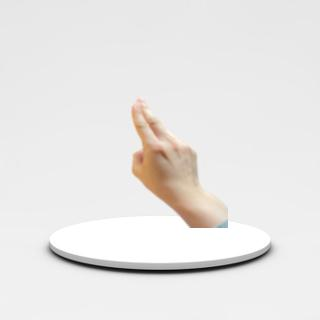DHAVE: (122, 93, 205, 201)
